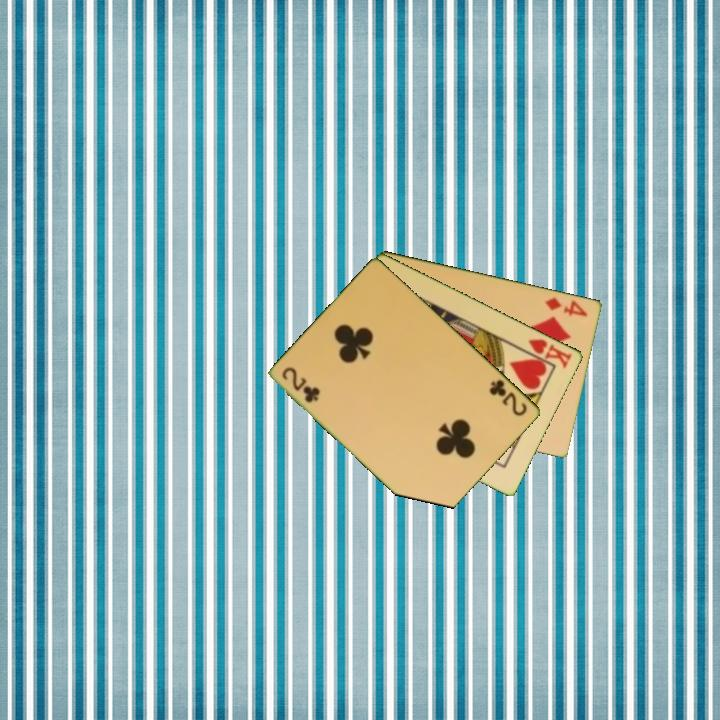2c: (486, 376, 530, 419), (279, 363, 323, 406)
4d: (542, 293, 590, 319)
Kh: (518, 335, 575, 371)
